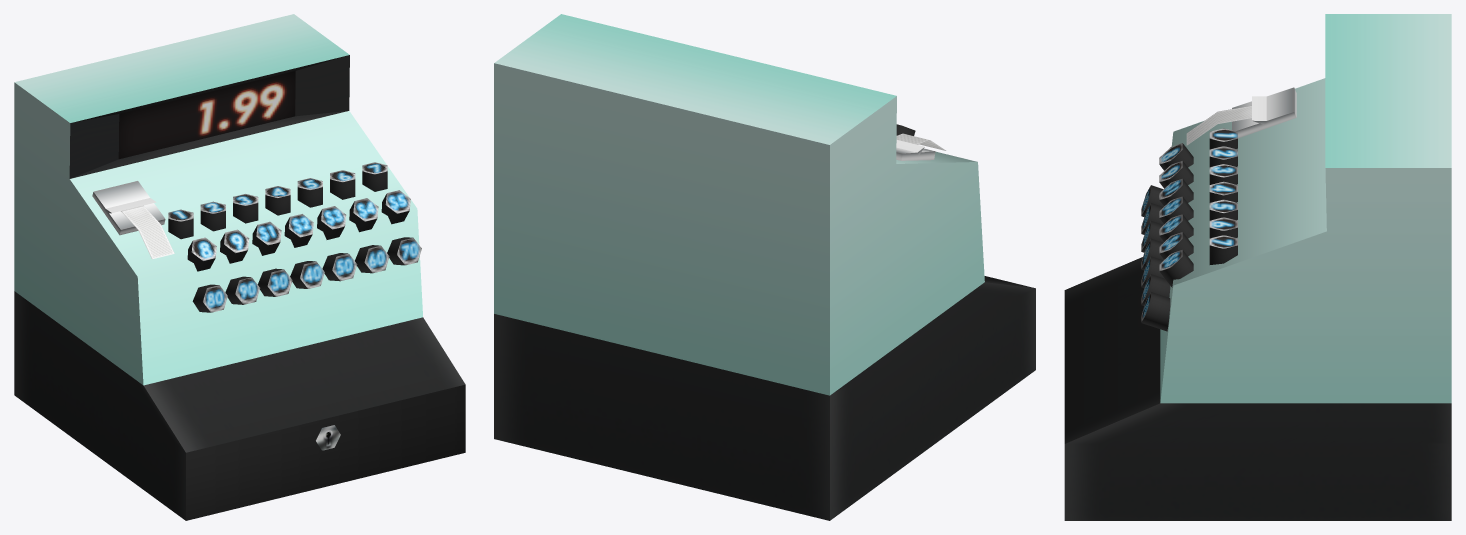
The model's file is Cash_Register_D.FBX.
3 views of the same model, side by side, from view 1: azimuth 30°, elevation 25°; view 2: azimuth 150°, elevation 25°; view 3: azimuth 270°, elevation 25° (orthographic). The views are drawn at different scales.
Parts seen in each view (by area): view 1: Cash Register; view 2: Cash Register; view 3: Cash Register.
Part boxes in pixels (x1,y1,x2,y2): Cash Register: [14, 14, 465, 520]; Cash Register: [494, 14, 1035, 520]; Cash Register: [1064, 14, 1451, 520].
Bounding box in the file's own units: 110 × 117 × 117.
